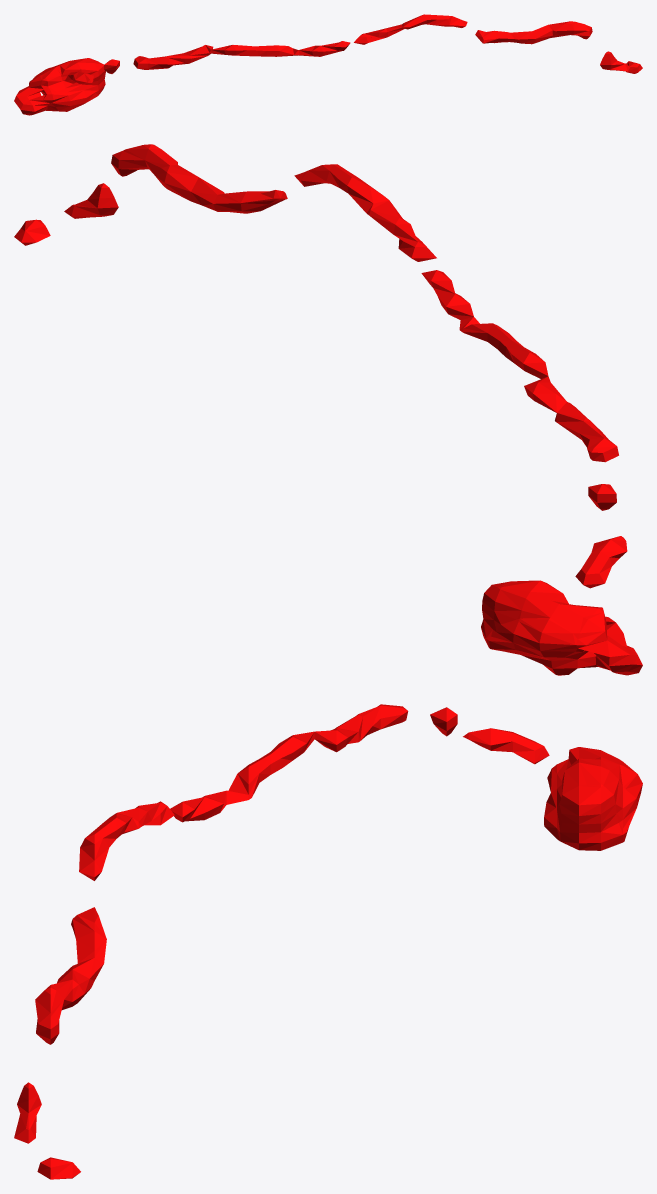
File: yiiD_coarse.dae
The picture shows the model from 3 angles, top to bottom: view 1: azimuth 30°, elevation 25°; view 2: azimuth 150°, elevation 25°; view 3: azimuth 270°, elevation 25°; orthographic projection. The views are drawn at different scales.
Visible parts, largest first — view 1: yiiD; view 2: yiiD; view 3: yiiD.
Part boxes in pixels (left/top/right/bottom): yiiD: left=14, top=14, right=642, bottom=115; yiiD: left=14, top=144, right=642, bottom=675; yiiD: left=14, top=704, right=642, bottom=1179.
Size of the model in its own units: 404 by 100 by 237.
